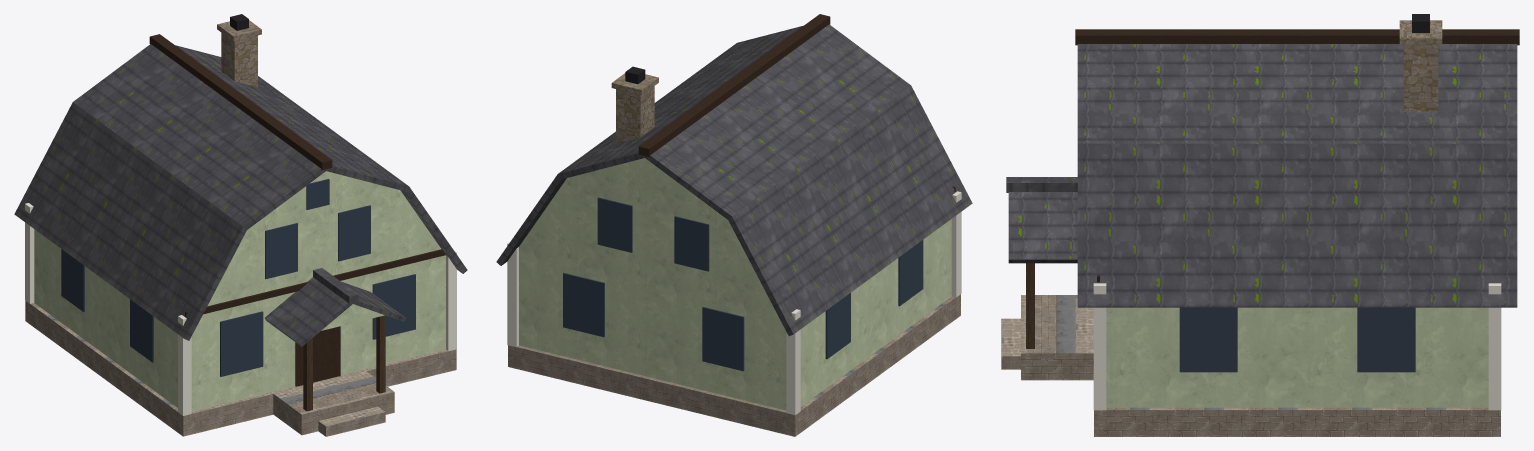
The model's file is gambrel_house.glb.
The picture shows the model from 3 angles, left to right: view 1: azimuth 30°, elevation 25°; view 2: azimuth 150°, elevation 25°; view 3: azimuth 270°, elevation 25°; orthographic projection. The views are drawn at different scales.
Parts seen in each view (by area): view 1: gambrel_house; view 2: gambrel_house; view 3: gambrel_house.
Part boxes in pixels (x1,y1,x2,y2): gambrel_house: (14,14,467,436); gambrel_house: (496,14,972,436); gambrel_house: (1001,14,1519,436).
Bounding box in the file's own units: 8.53 × 8.1 × 10.5.
8 materials, 5 textured.
